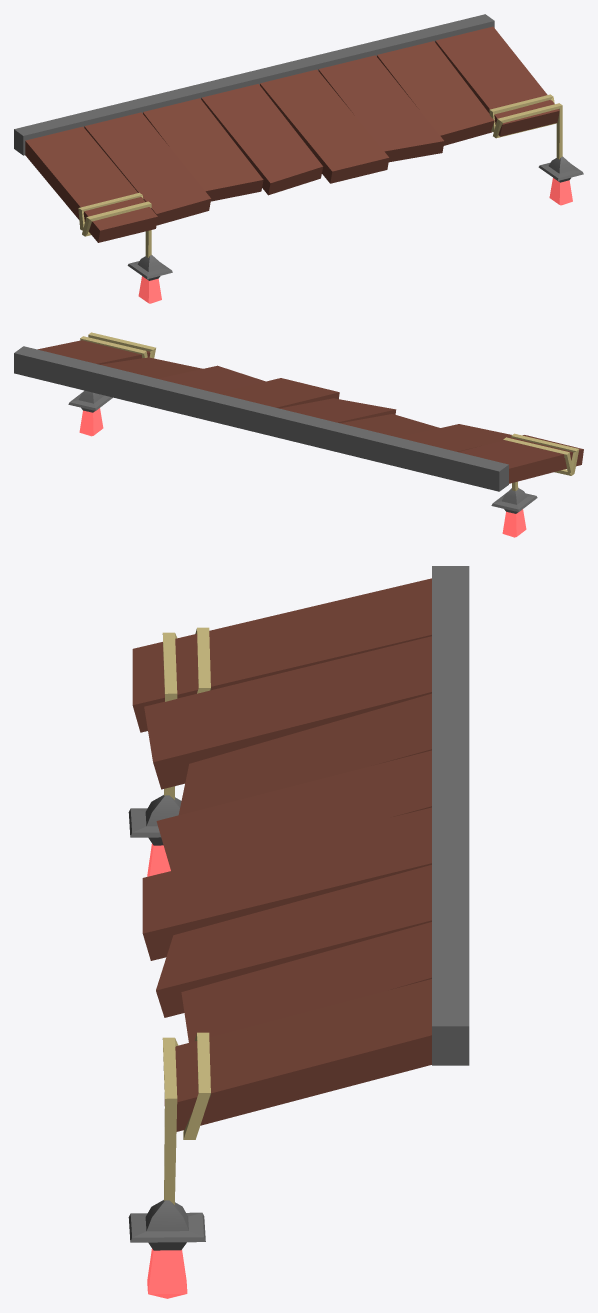
File: awning_lamps.fbx
3 renders of one model, top to bottom at view 1: azimuth 30°, elevation 25°; view 2: azimuth 150°, elevation 25°; view 3: azimuth 270°, elevation 25°, orthographic. The views are drawn at different scales.
Visible parts, largest first — view 1: awning_lamps; view 2: awning_lamps; view 3: awning_lamps.
Part boxes in pixels (x1=…): awning_lamps: x1=14, y1=14, x2=583, y2=303; awning_lamps: x1=14, y1=332, x2=583, y2=537; awning_lamps: x1=128, y1=566, x2=469, y2=1298.
Bounding box in the file's own units: 144 × 38.41 × 43.52.
